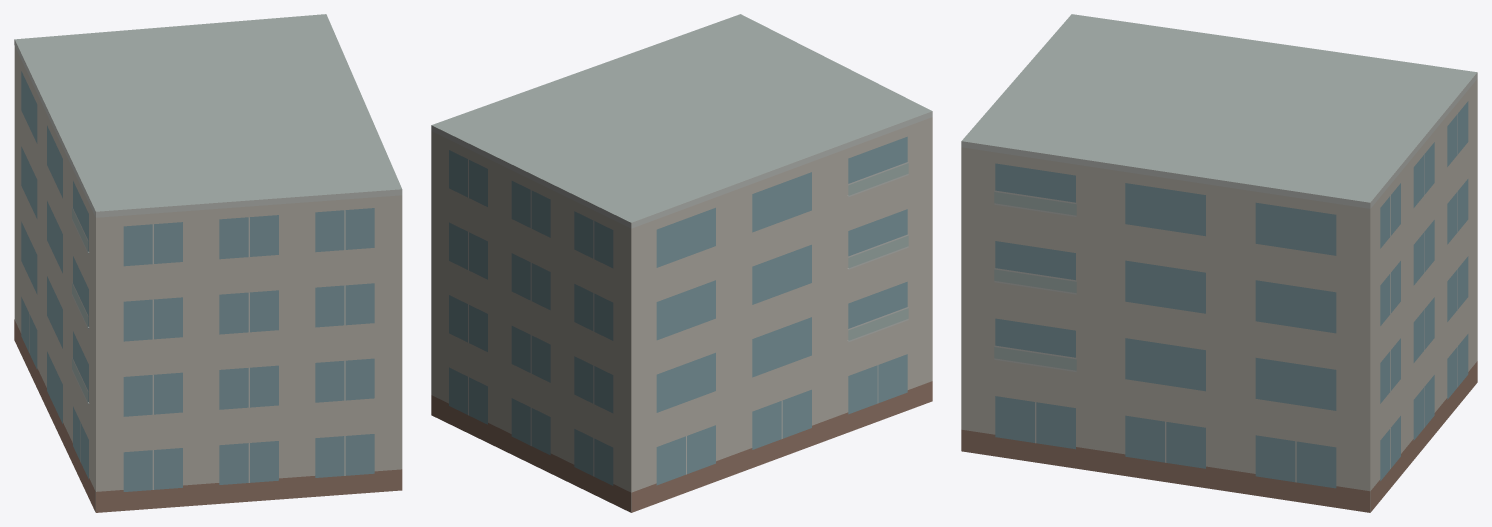
The model's file is survey-upis-32885125.glb.
The picture shows the model from 3 angles, left to right: view 1: azimuth 30°, elevation 25°; view 2: azimuth 150°, elevation 25°; view 3: azimuth 270°, elevation 25°; orthographic projection. The views are drawn at different scales.
Visible parts, largest first — view 1: survey-upis-32885125.tmp; view 2: survey-upis-32885125.tmp; view 3: survey-upis-32885125.tmp.
Part boxes in pixels (x1,y1,x2,y2): survey-upis-32885125.tmp: (14, 14, 402, 512); survey-upis-32885125.tmp: (431, 14, 932, 512); survey-upis-32885125.tmp: (961, 14, 1477, 512).
Bounding box in the file's own units: 15.93 × 12.2 × 18.41.
